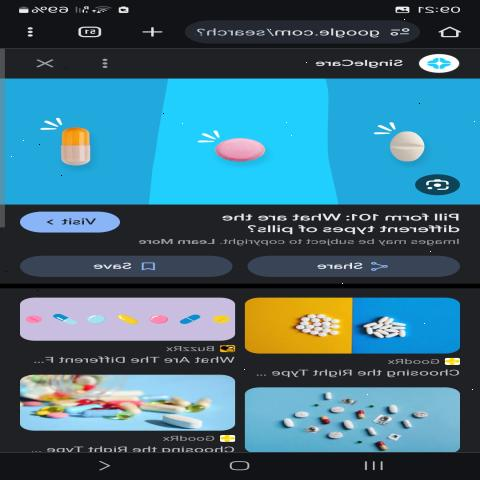Pill: (24, 124, 118, 182), (190, 122, 274, 178), (364, 119, 434, 169), (148, 412, 216, 432), (176, 304, 209, 330), (204, 308, 234, 330), (111, 310, 140, 332), (48, 311, 74, 331), (147, 310, 172, 328), (84, 312, 108, 330), (320, 431, 350, 445), (336, 418, 360, 434), (376, 402, 399, 418), (408, 408, 434, 422), (272, 415, 296, 430), (391, 419, 415, 433), (26, 310, 42, 328), (360, 425, 380, 439), (316, 390, 336, 402)
